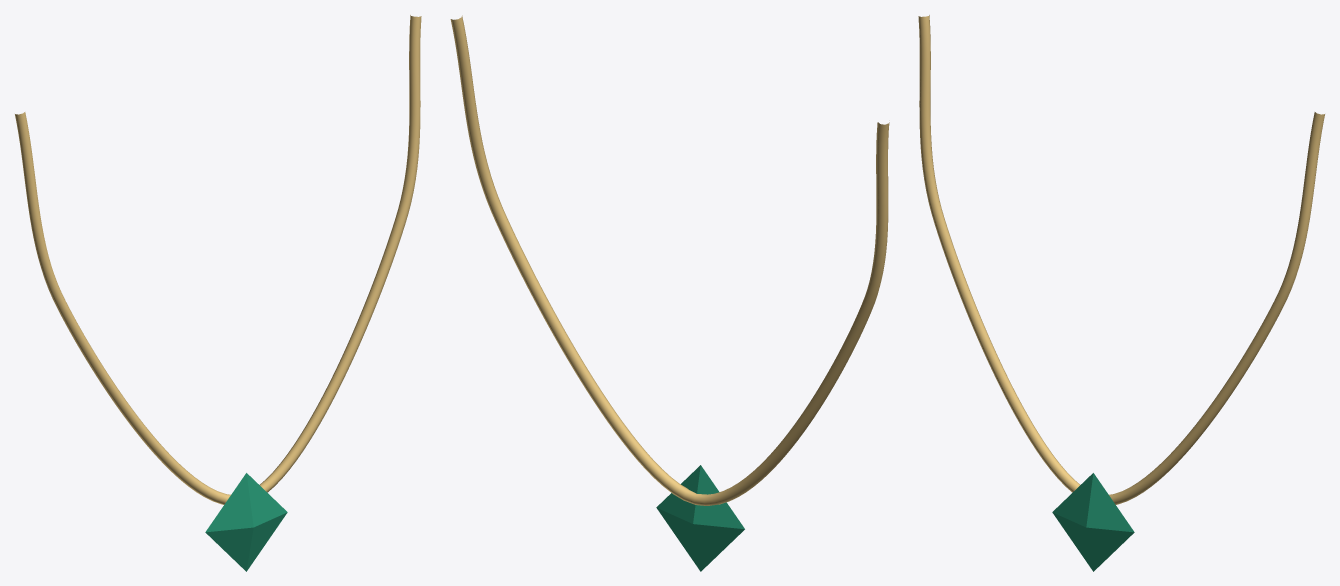
The picture shows the model from 3 angles, left to right: view 1: azimuth 30°, elevation 25°; view 2: azimuth 150°, elevation 25°; view 3: azimuth 330°, elevation 25°; orthographic projection. The views are drawn at different scales.
Size of the model in its own units: 1.48 by 1.7 by 0.2429.
